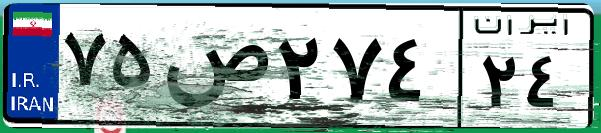2: (270, 28, 330, 110), (475, 38, 525, 113)
4: (385, 28, 445, 110), (525, 38, 570, 115)
5: (110, 28, 158, 98)
7: (330, 28, 385, 110), (57, 26, 110, 100)
ص: (158, 20, 270, 120)
